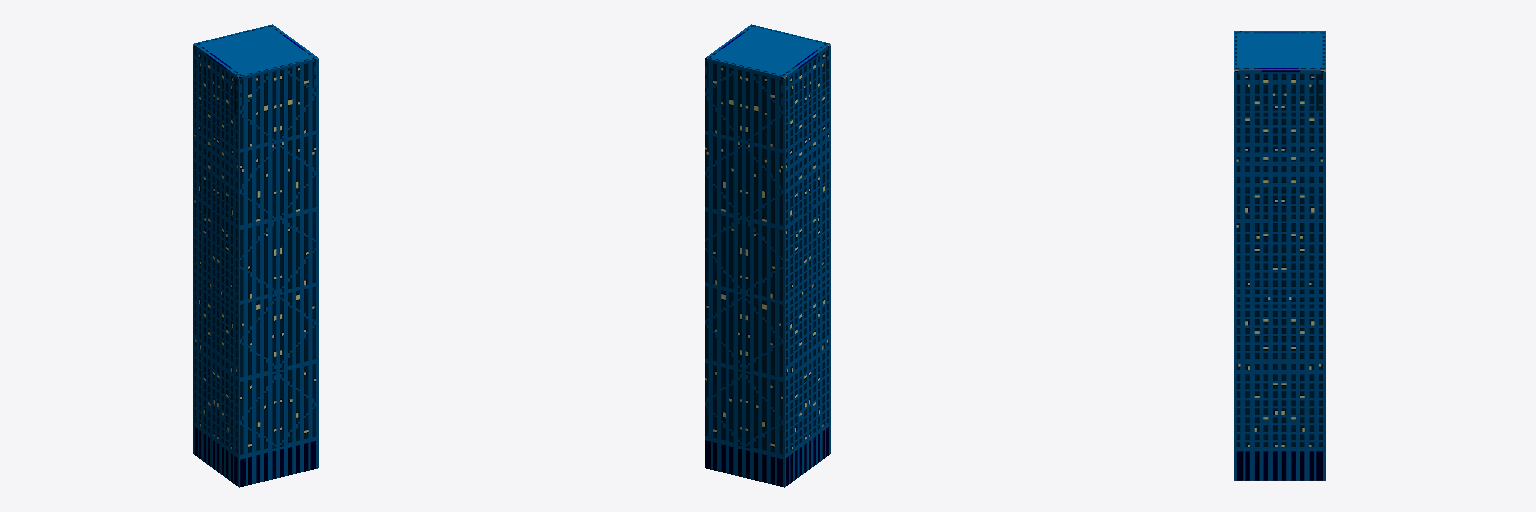
The picture shows the model from 3 angles: view 1: azimuth 30°, elevation 25°; view 2: azimuth 150°, elevation 25°; view 3: azimuth 270°, elevation 25°; orthographic projection.
Parts seen in each view (by area): view 1: Cube; view 2: Cube; view 3: Cube.
Part boxes in pixels (left/top/right/bottom): Cube: left=193, top=24, right=318, bottom=487; Cube: left=705, top=24, right=830, bottom=487; Cube: left=1234, top=31, right=1325, bottom=480.
Size of the model in its own units: 7.8 by 38.4 by 7.8.
Materials: 1 (1 with a texture image).